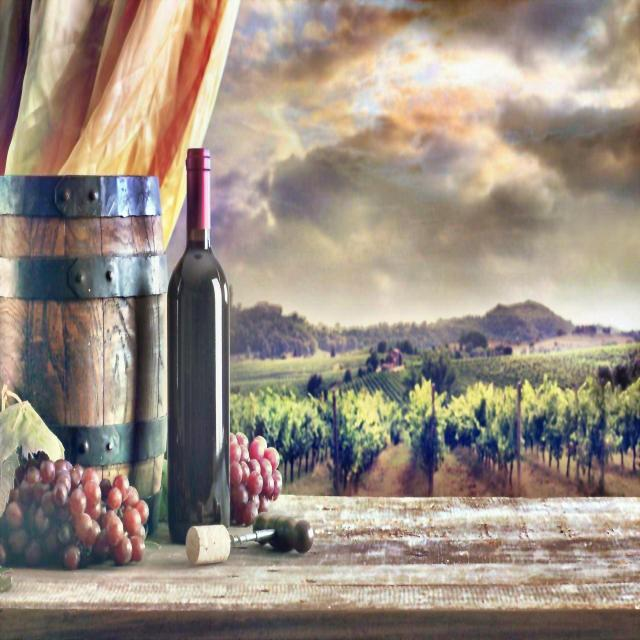cork: (182, 514, 233, 572)
